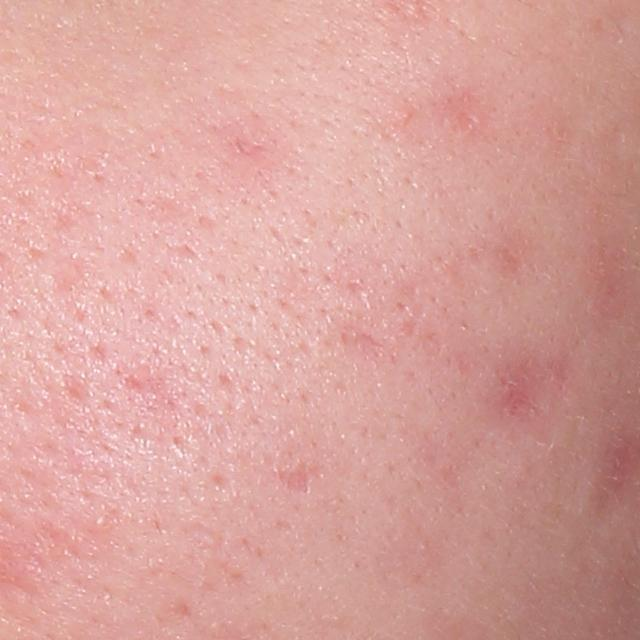atrophic_scar: (281, 461, 313, 496)
comedo: (88, 511, 109, 533)
